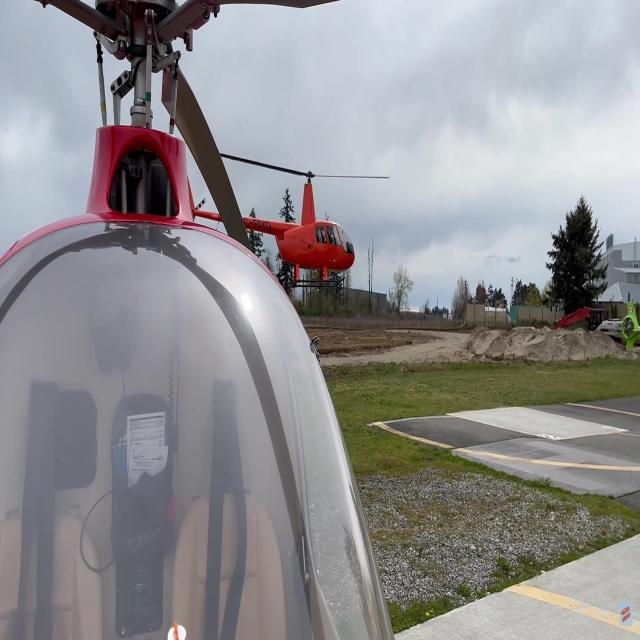CIV_HELO: (176, 152, 356, 289)
